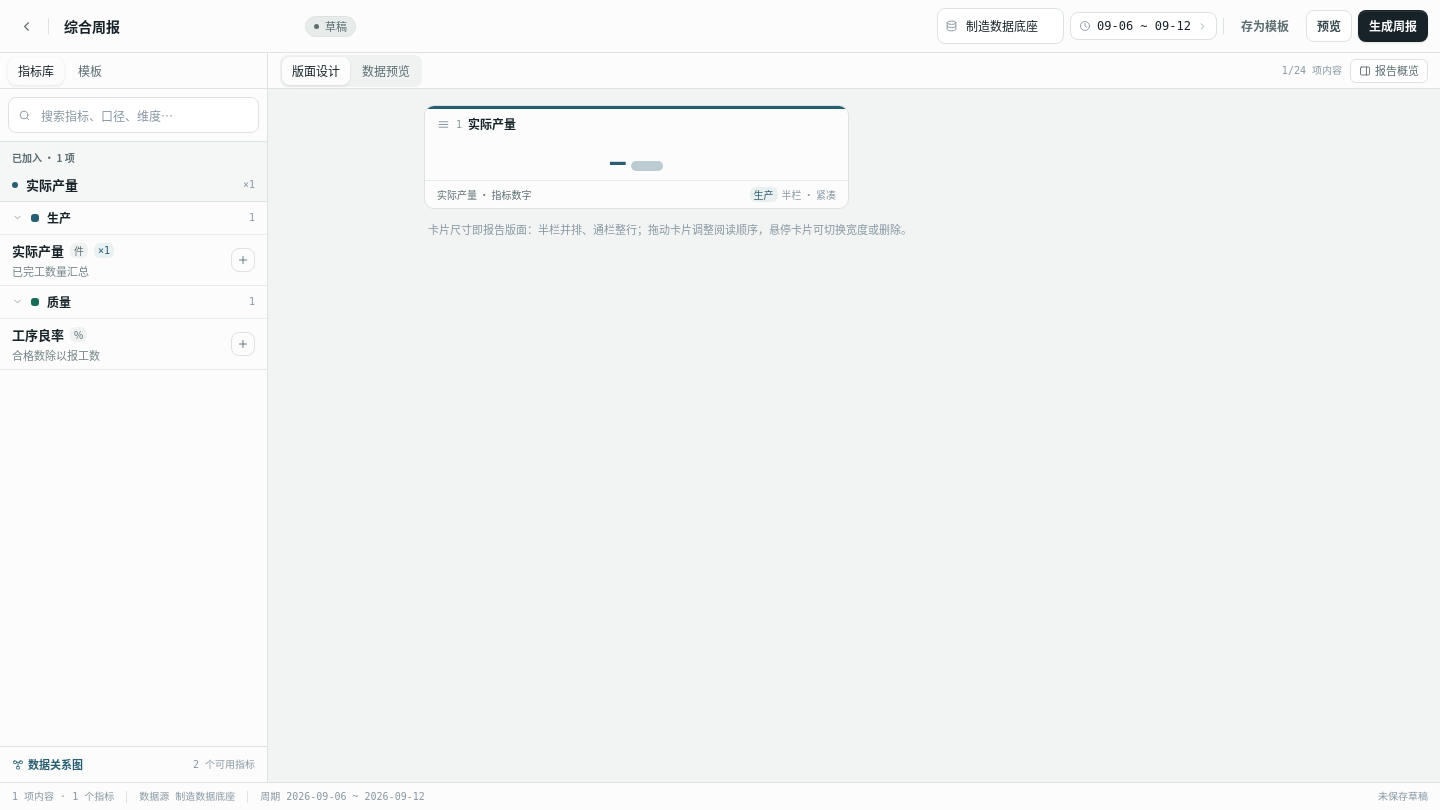
Test: ReportComposerPage › starter replacement requires confirmation after edits
Replace the text in the field named "周报名称" with "正在编辑" at [177, 26], box [57,11,297,41]
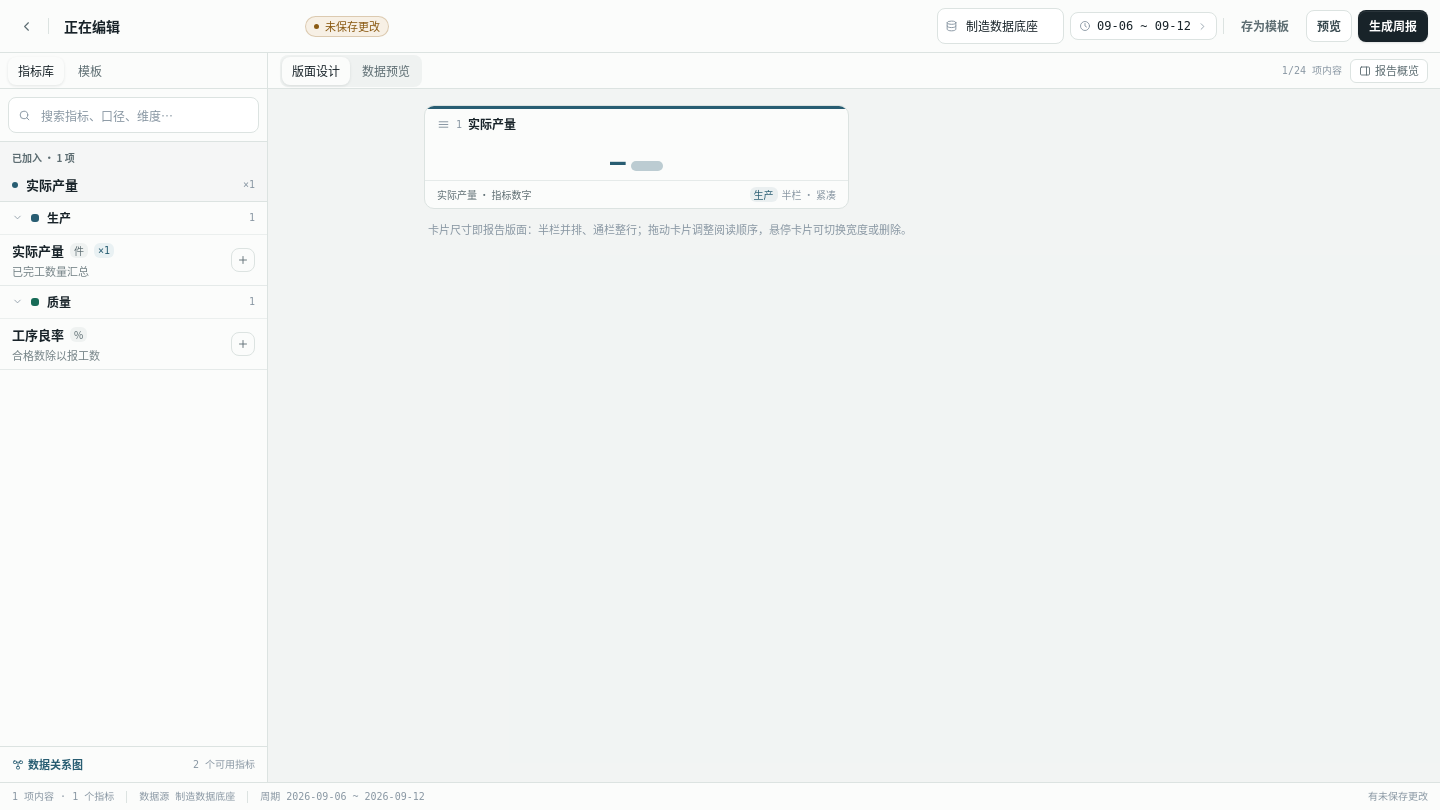
Click the button "模板" at [90, 70], box [68,56,112,84]
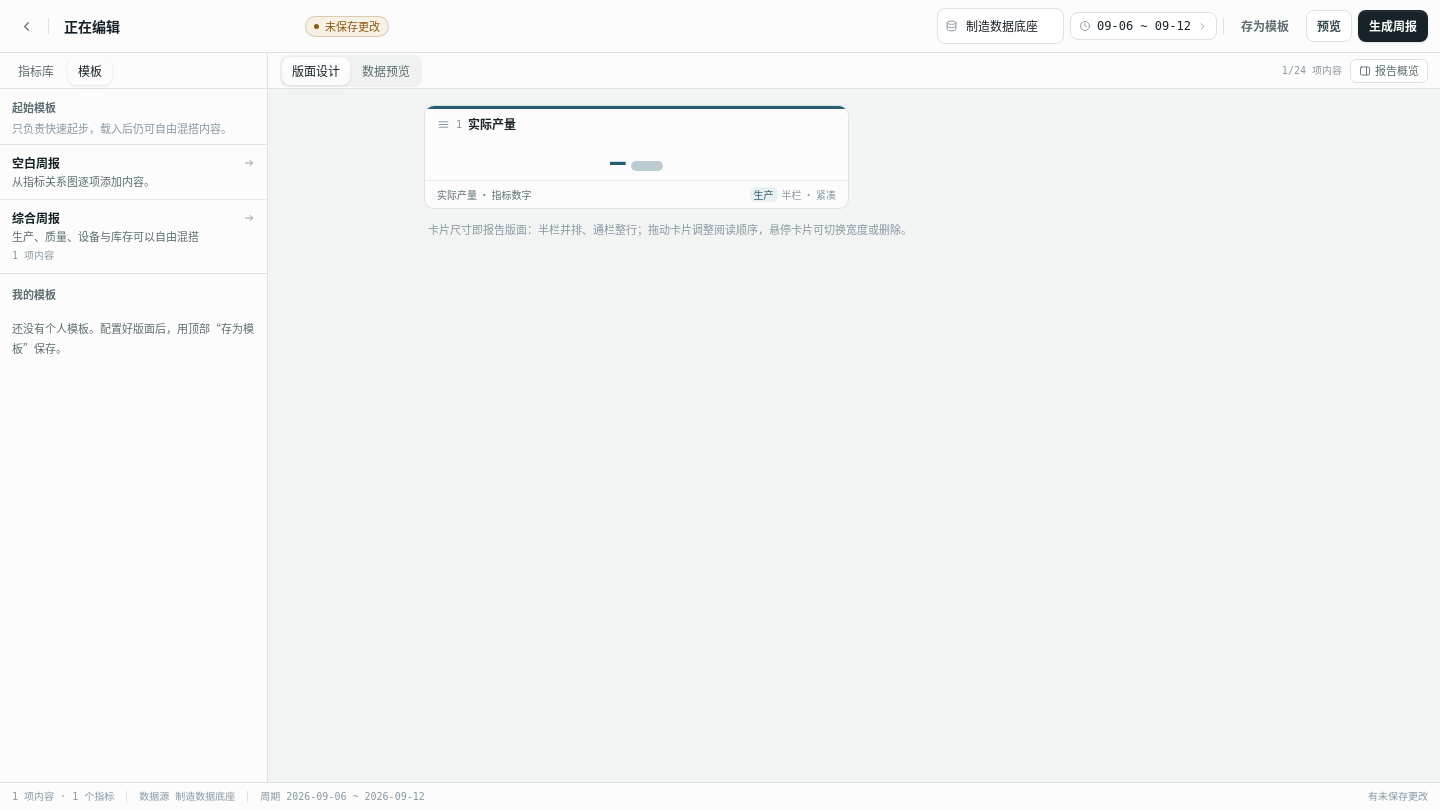
Click the button "空白周报 从指标关系图逐项添加内容。" at [134, 172], box [0,144,267,200]
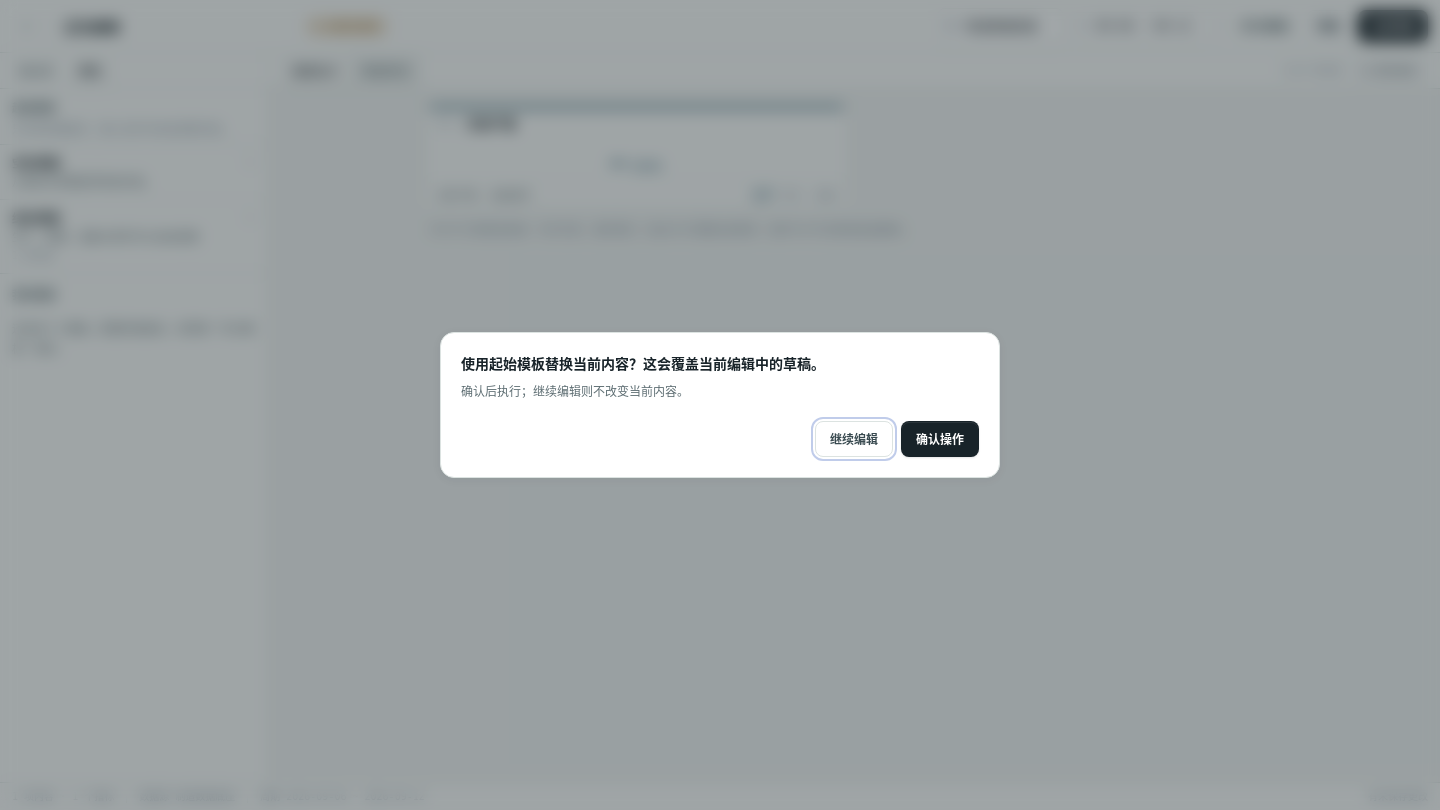
Click the button "确认操作" at [940, 439], box [901,421,979,457]
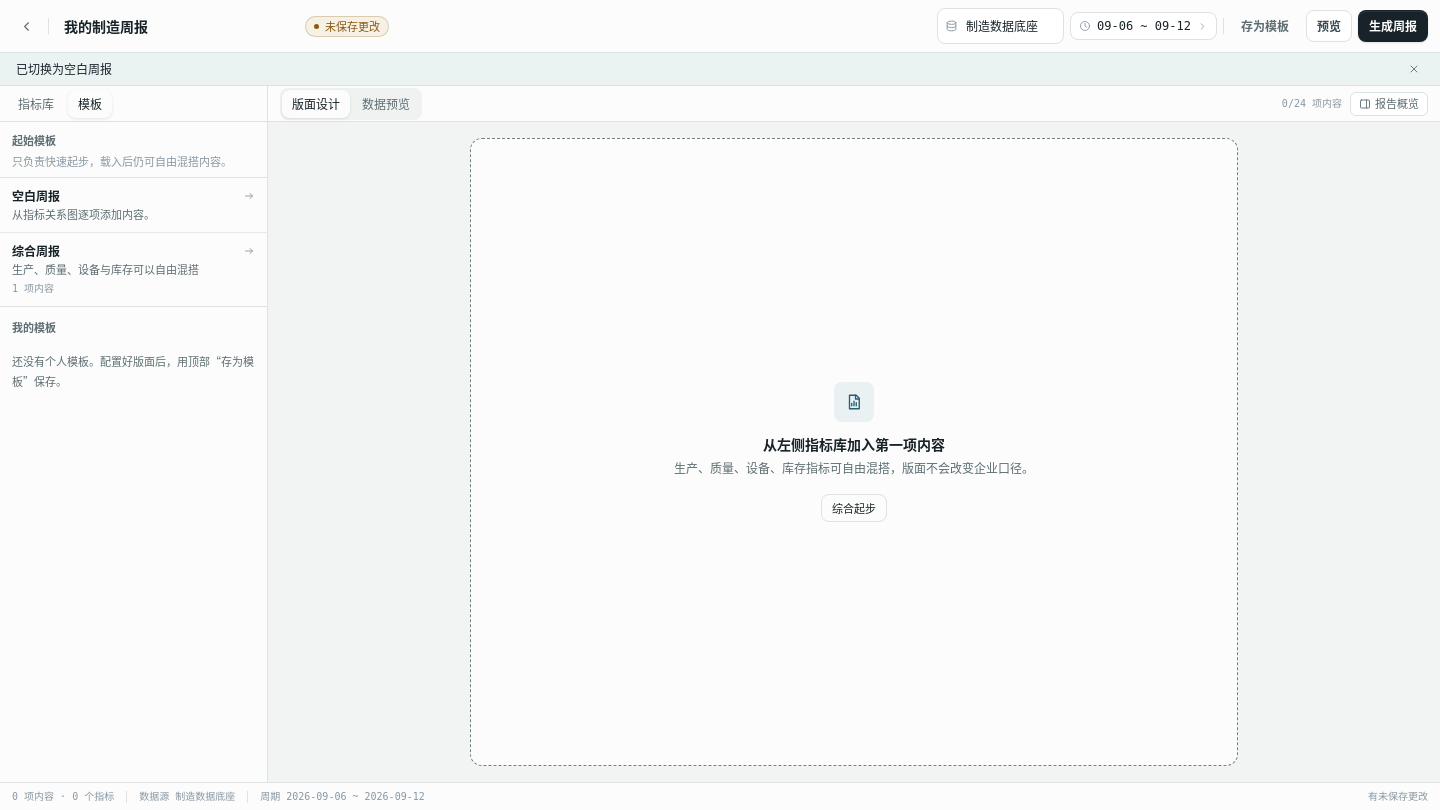
Check: the text "0/24 项内容" is shown, box [1282,96,1342,111]
